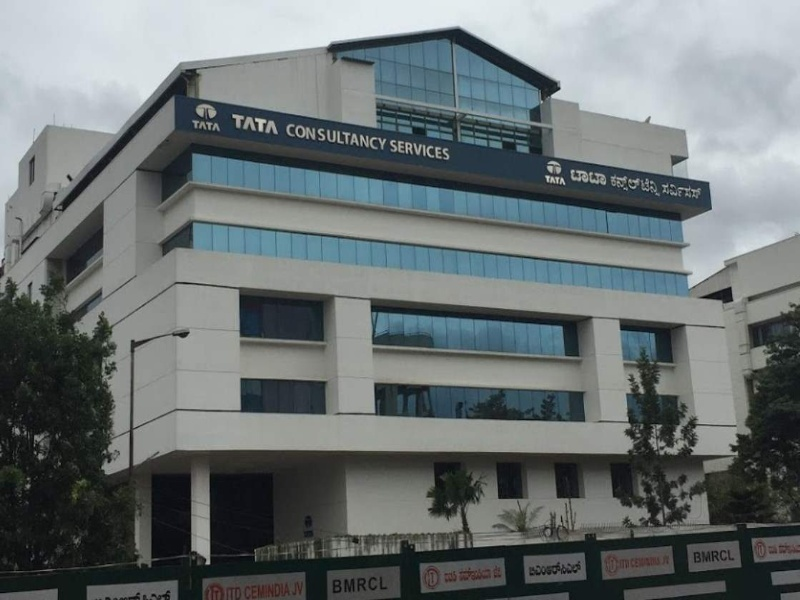tcs: (194, 103, 219, 122), (544, 158, 564, 175)
